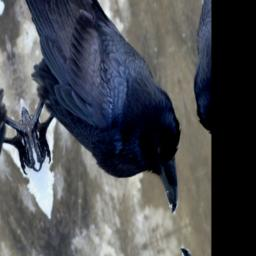Crow: (0, 0, 198, 256)
